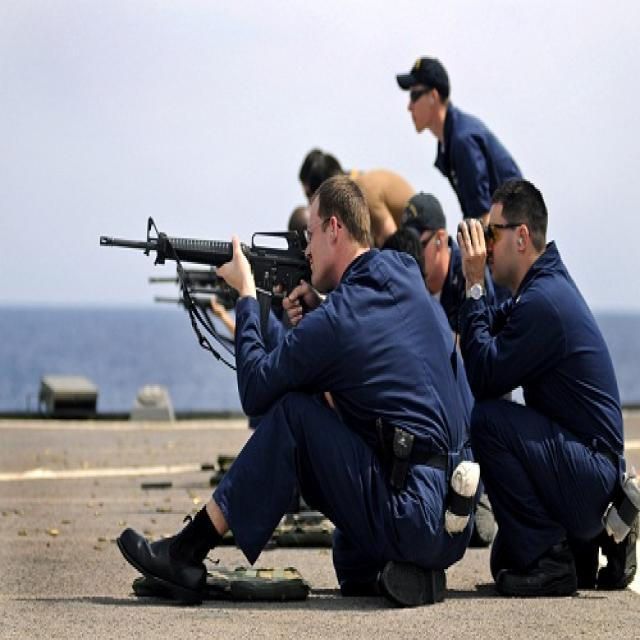m16: (90, 187, 308, 310)
